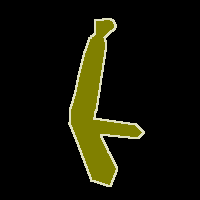tie: (69, 18, 144, 186), (70, 19, 144, 186)
